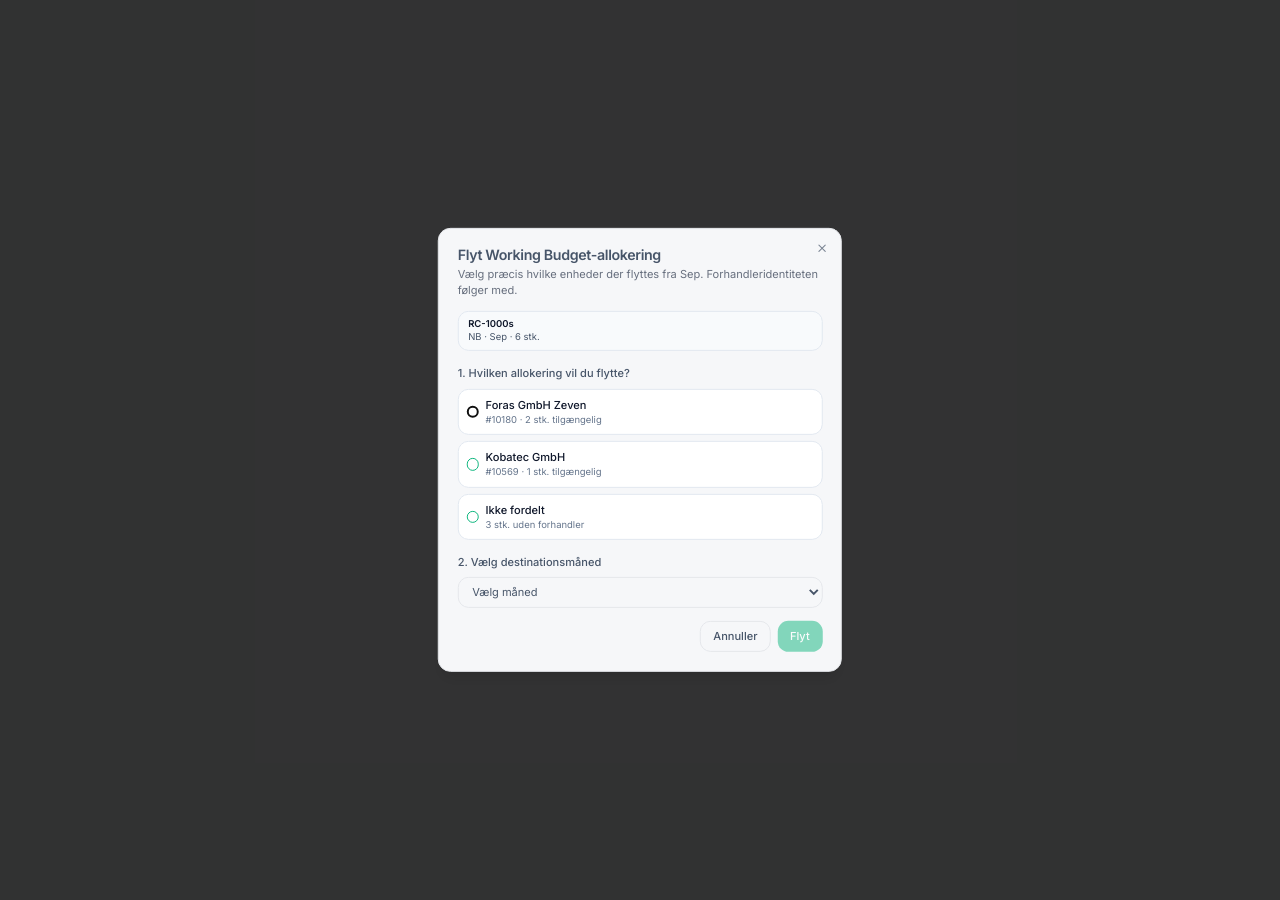
Test: Working Budget dealer-specific move › caps the selected dealer quantity at the available quantity
Click the checkbox next to "Foras GmbH Zeven": point(473, 412) [467,406,479,418]
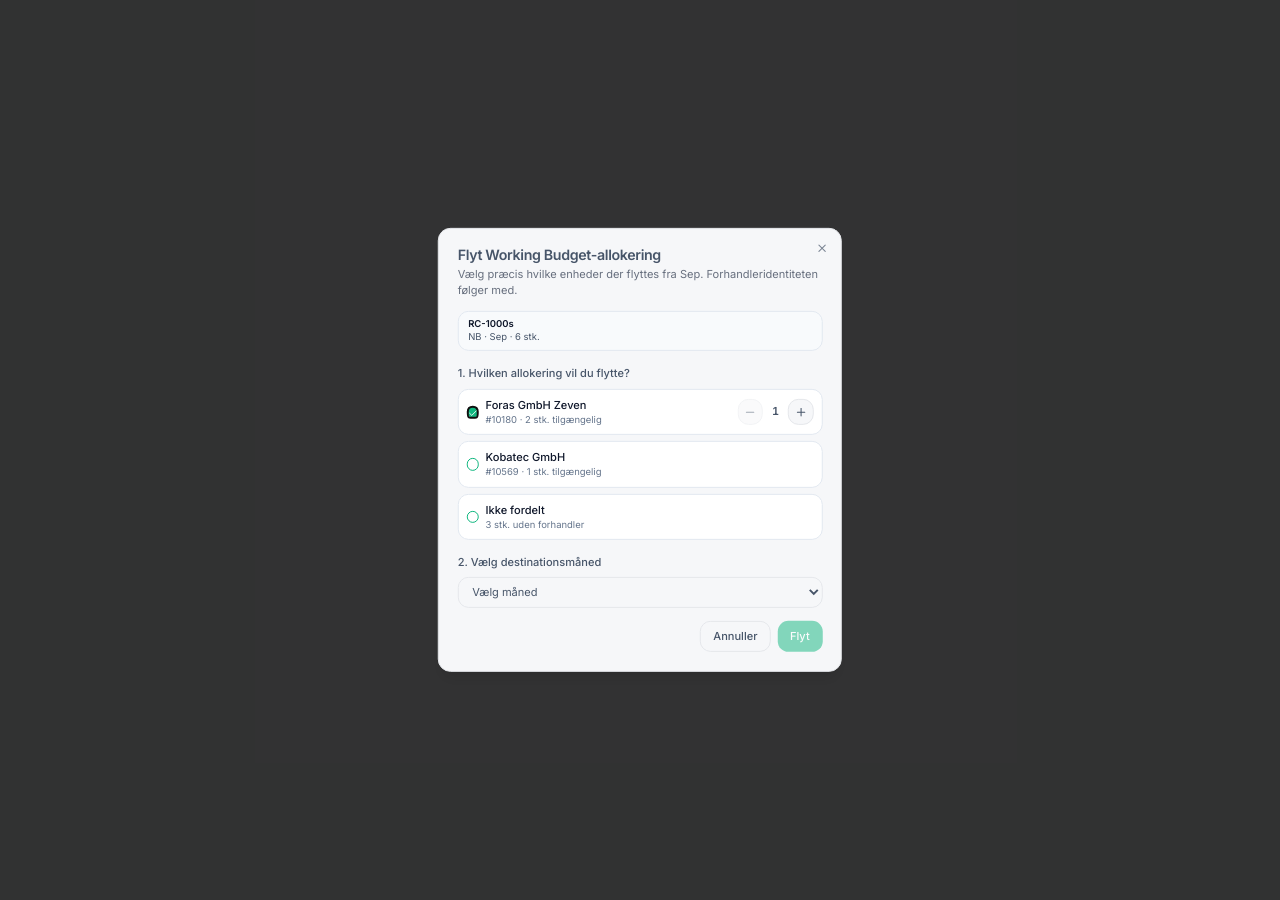
Check: the 3rd button is shown
Click the 3rd button: point(801, 412) [788,399,813,425]
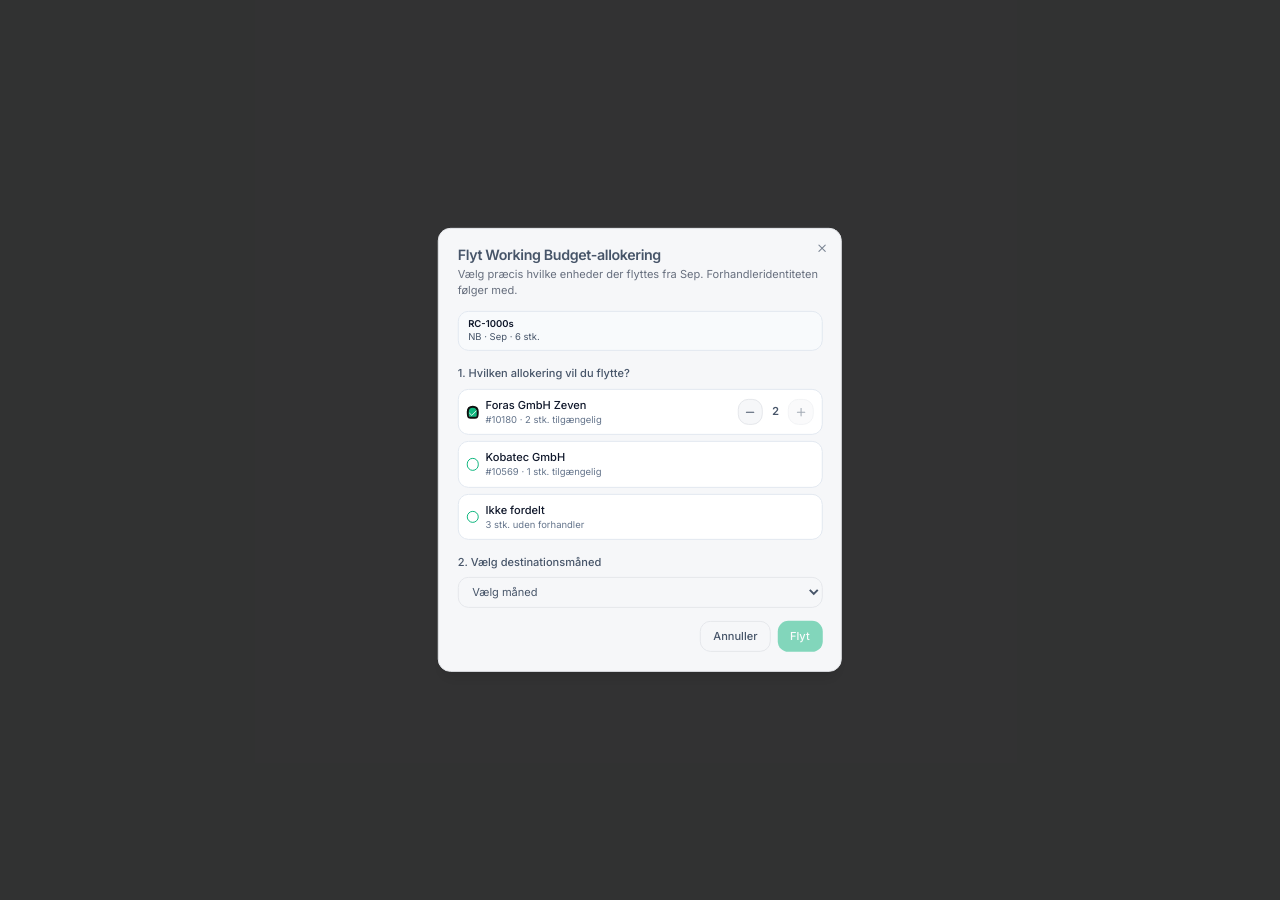
Check: the text "2" is shown, box [772,404,779,418]
Check: the 3rd button is disabled, box [788,399,813,425]
